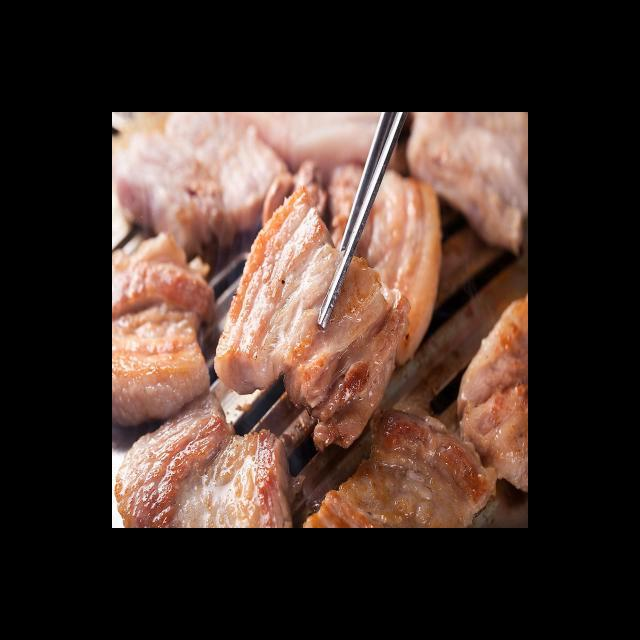pork: (117, 112, 527, 527)
